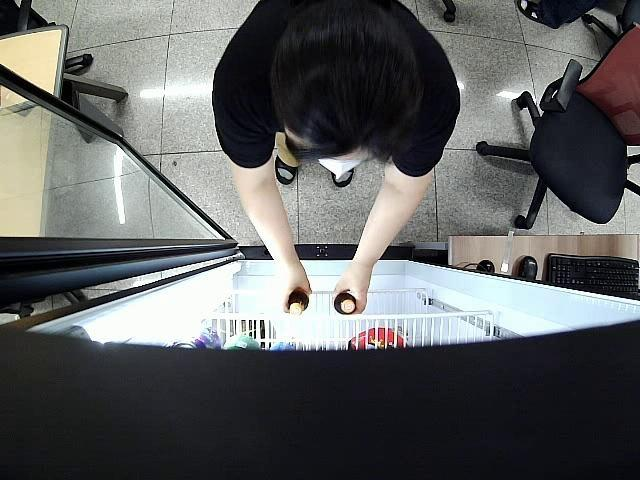17_vita500: (285, 288, 310, 316), (333, 292, 358, 316)
